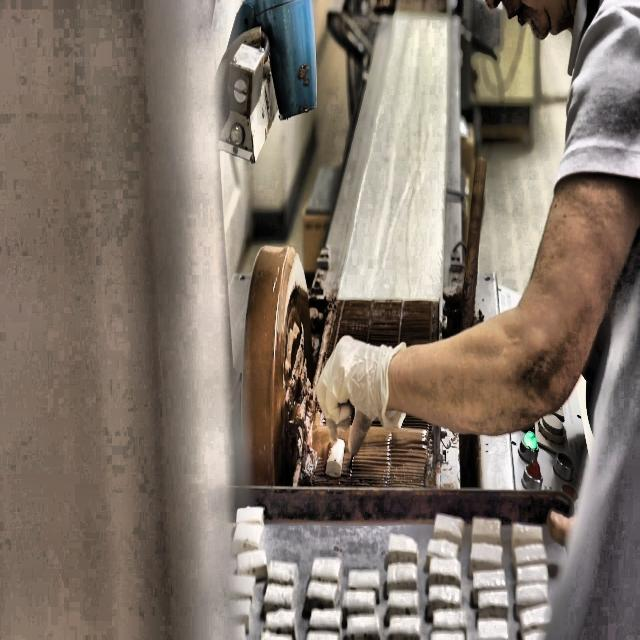gloved: (309, 313, 431, 451)
